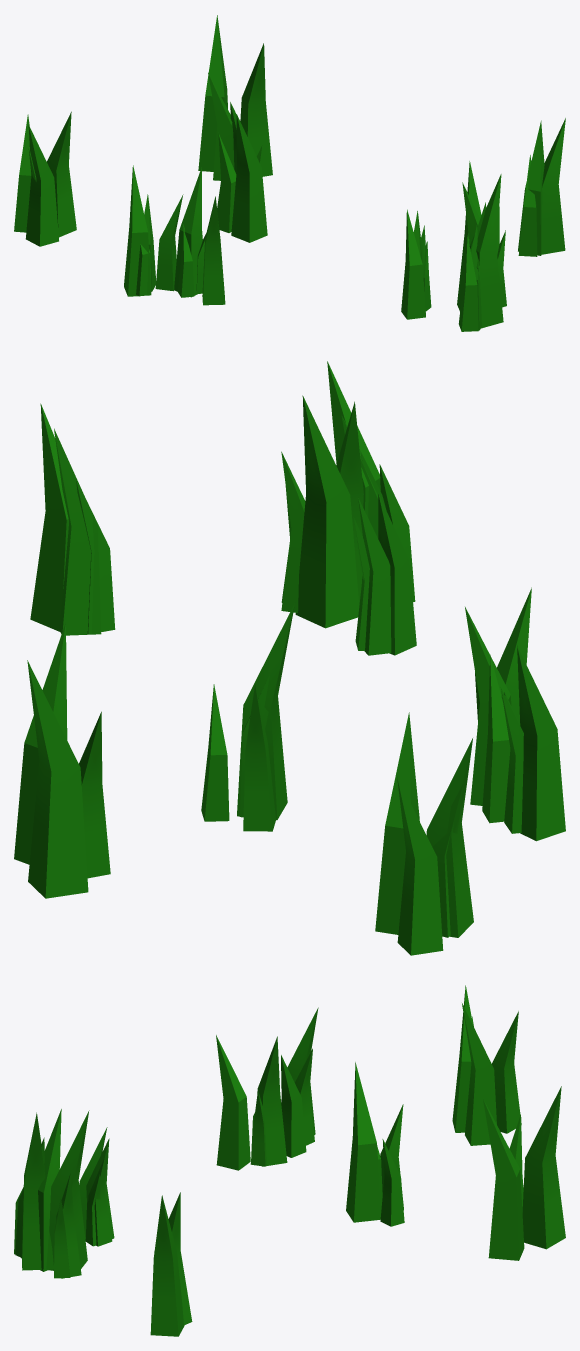
Rendered from Grass Cluster 4.fbx.
3 views of the same model, one above another, from view 1: azimuth 30°, elevation 25°; view 2: azimuth 150°, elevation 25°; view 3: azimuth 270°, elevation 25° (orthographic). The views are drawn at different scales.
Visible parts, largest first — view 1: Grass.136, Grass.147, Grass.146, Grass.148, Grass.140, Grass.139, Grass.128, Grass.135, Grass.142, Grass.125, Grass.152, Grass.153 (+13 smaller); view 2: Grass.096, Grass.139, Grass.135, Grass.155, Grass.149, Grass.140, Grass.128, Grass.148, Grass.146, Grass.136, Grass.127, Grass.157 (+14 smaller); view 3: Grass.139, Grass.148, Grass.136, Grass.140, Grass.125, Grass.128, Grass.147, Grass.096, Grass.155, Grass.152, Grass.141, Grass.153 (+14 smaller).
Part boxes in pixels (left/top/right/bottom): Grass.136: left=231, top=114, right=267, bottom=242; Grass.147: left=469, top=174, right=503, bottom=328; Grass.146: left=25, top=125, right=58, bottom=246; Grass.148: left=240, top=43, right=272, bottom=176; Grass.140: left=542, top=118, right=565, bottom=254; Grass.139: left=198, top=15, right=227, bottom=171; Grass.128: left=47, top=111, right=76, bottom=237; Grass.135: left=124, top=165, right=151, bottom=296; Grass.142: left=401, top=209, right=425, bottom=319; Grass.125: left=202, top=196, right=225, bottom=305; Grass.152: left=174, top=167, right=202, bottom=297; Grass.153: left=155, top=194, right=183, bottom=291; Grass.096: left=295, top=395, right=359, bottom=628; Grass.139: left=27, top=660, right=88, bottom=898; Grass.135: left=517, top=646, right=565, bottom=841; Grass.155: left=397, top=776, right=443, bottom=955; Grass.149: left=54, top=428, right=101, bottom=635; Grass.140: left=30, top=403, right=68, bottom=631; Grass.128: left=375, top=712, right=419, bottom=934; Grass.148: left=14, top=622, right=67, bottom=864; Grass.146: left=426, top=738, right=473, bottom=937; Grass.136: left=237, top=602, right=295, bottom=820; Grass.127: left=243, top=684, right=275, bottom=831; Grass.157: left=79, top=711, right=110, bottom=878; Grass.139: left=522, top=1086, right=565, bottom=1249; Grass.148: left=482, top=1098, right=524, bottom=1260; Grass.136: left=346, top=1062, right=380, bottom=1222; Grass.140: left=150, top=1195, right=184, bottom=1336; Grass.125: left=216, top=1035, right=250, bottom=1170; Grass.128: left=462, top=1003, right=496, bottom=1145; Grass.147: left=22, top=1112, right=53, bottom=1270; Grass.096: left=48, top=1110, right=89, bottom=1270; Grass.155: left=492, top=1011, right=521, bottom=1133; Grass.152: left=257, top=1036, right=287, bottom=1166; Grass.141: left=38, top=1109, right=61, bottom=1271; Grass.153: left=281, top=1055, right=306, bottom=1157.
Bounding box in the file's own units: 2.8 × 0.9623 × 2.98.
